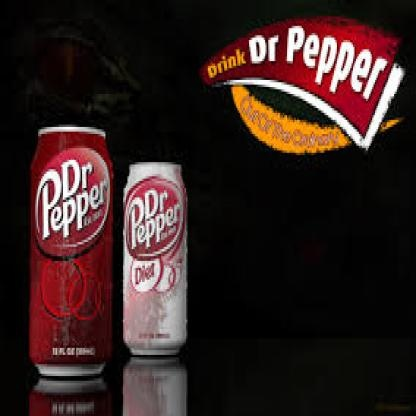trash: (30, 127, 111, 364), (123, 162, 186, 354), (123, 357, 186, 415)
